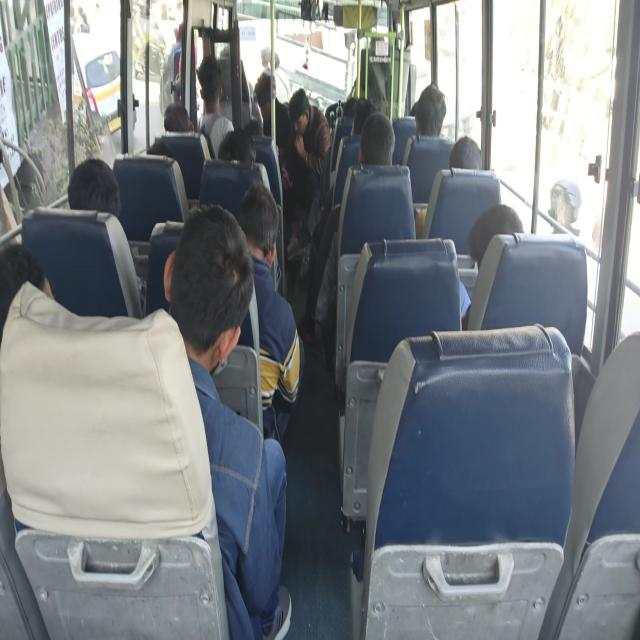person: (183, 227, 240, 364), (72, 159, 118, 221), (132, 134, 186, 185), (240, 182, 276, 255), (478, 215, 523, 263), (156, 100, 198, 140), (416, 81, 446, 136), (451, 138, 485, 184), (359, 128, 394, 171), (198, 66, 222, 120), (220, 132, 254, 170), (291, 87, 314, 140), (355, 87, 379, 136), (238, 114, 268, 146), (218, 27, 240, 68), (253, 81, 278, 116), (368, 27, 390, 59)
